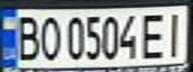0: (100, 12, 121, 61), (63, 12, 84, 61)
4: (118, 11, 142, 61)
5: (81, 12, 103, 62)
B: (9, 11, 42, 62)
E: (139, 10, 169, 60)
I: (160, 8, 190, 59)
O: (36, 12, 63, 62)
